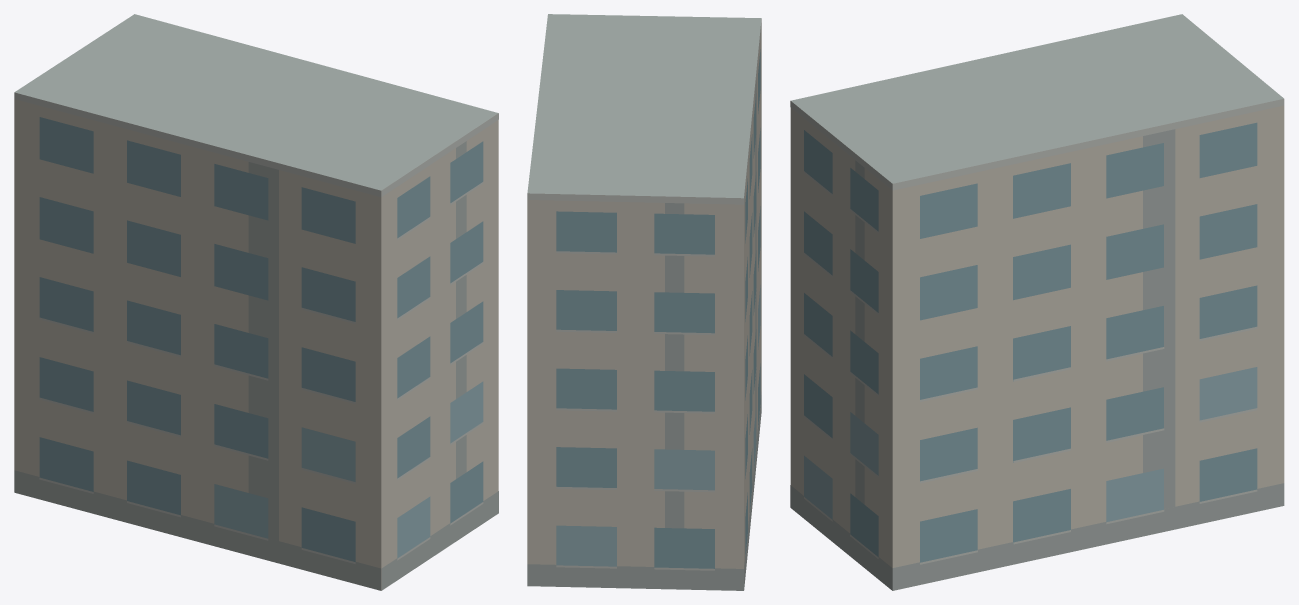
Rendered from survey-upis-32885852.glb.
The picture shows the model from 3 angles, left to right: view 1: azimuth 30°, elevation 25°; view 2: azimuth 150°, elevation 25°; view 3: azimuth 270°, elevation 25°; orthographic projection. The views are drawn at different scales.
Parts seen in each view (by area): view 1: survey-upis-32885852.tmp; view 2: survey-upis-32885852.tmp; view 3: survey-upis-32885852.tmp.
Boxes of the visible parts, x1=… form: survey-upis-32885852.tmp: x1=14, y1=14, x2=498, y2=590; survey-upis-32885852.tmp: x1=527, y1=14, x2=761, y2=590; survey-upis-32885852.tmp: x1=790, y1=14, x2=1284, y2=590.
Bounding box in the file's own units: 13.21 × 14.75 × 16.22.
